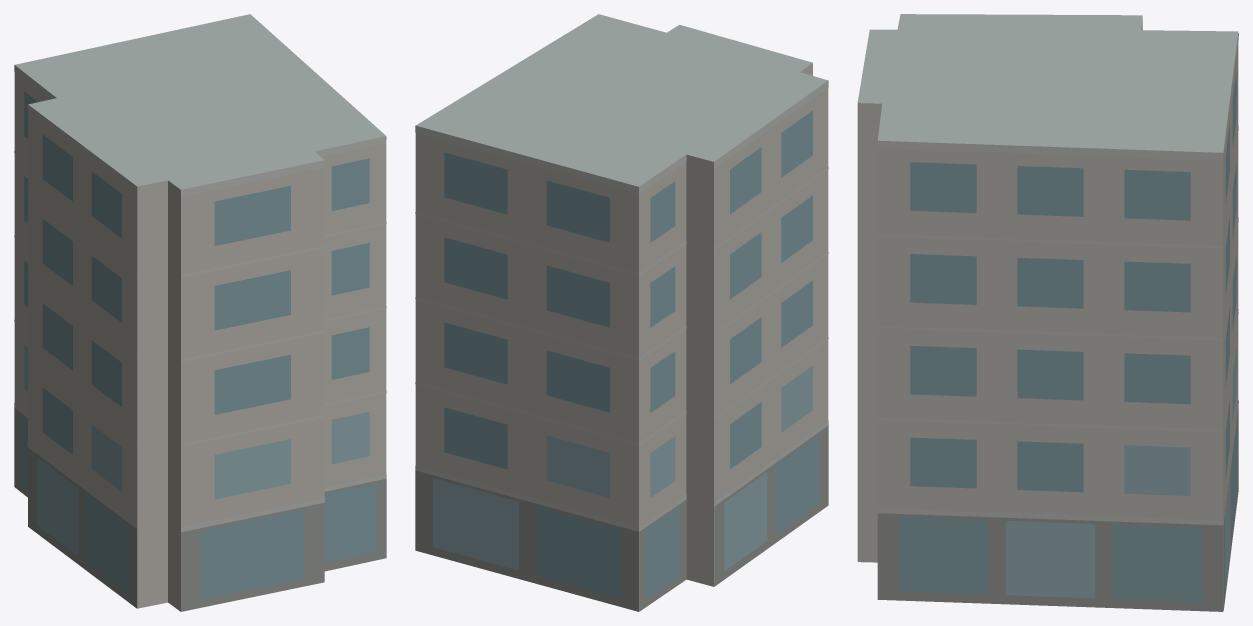
File: survey-upis-32728699.glb
The picture shows the model from 3 angles, left to right: view 1: azimuth 30°, elevation 25°; view 2: azimuth 150°, elevation 25°; view 3: azimuth 270°, elevation 25°; orthographic projection. The views are drawn at different scales.
Parts seen in each view (by area): view 1: survey-upis-32728699.tmp; view 2: survey-upis-32728699.tmp; view 3: survey-upis-32728699.tmp.
Part boxes in pixels (<box>): survey-upis-32728699.tmp: <box>14,14,386,611</box>; survey-upis-32728699.tmp: <box>415,14,828,611</box>; survey-upis-32728699.tmp: <box>857,14,1238,611</box>.
Bounding box in the file's own units: 9.3 × 14.3 × 10.78.
